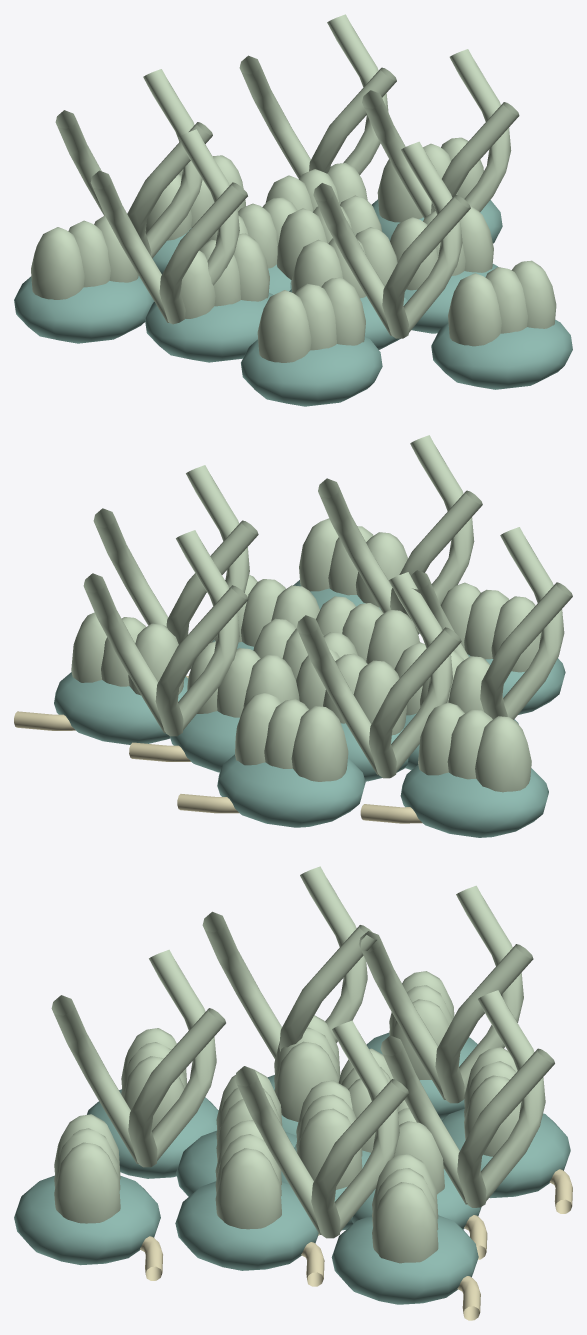
The model's file is bio_acid_mat_09_far.glb.
3 views of the same model, one above another, from view 1: azimuth 30°, elevation 25°; view 2: azimuth 150°, elevation 25°; view 3: azimuth 270°, elevation 25° (orthographic). The views are drawn at different scales.
Visible parts, largest first — view 1: Spiral filament.006, Spiral filament.012, Spiral filament, Spiral filament.009, Spiral filament.003, Reaction vesicle.021, Reaction vesicle.030, Microbial cushion.007, Microbial cushion.010, Microbial cushion.009, Reaction vesicle.027, Microbial cushion.004 (+11 smaller); view 2: Spiral filament.009, Spiral filament.003, Spiral filament.006, Spiral filament.012, Spiral filament, Reaction vesicle.027, Reaction vesicle.018, Microbial cushion.009, Microbial cushion.006, Microbial cushion.008, Reaction vesicle.030, Reaction vesicle.021 (+14 smaller); view 3: Spiral filament.006, Spiral filament, Spiral filament.009, Spiral filament.003, Spiral filament.012, Microbial cushion.008, Microbial cushion.010, Microbial cushion.005, Reaction vesicle.030, Reaction vesicle.024, Reaction vesicle.015, Reaction vesicle (+17 smaller).
Part boxes in pixels (left/top/right/bottom): Spiral filament.006: left=313, top=141, right=470, bottom=338; Spiral filament.012: left=90, top=129, right=247, bottom=324; Spiral filament: left=362, top=49, right=519, bottom=218; Spiral filament.009: left=239, top=14, right=396, bottom=178; Spiral filament.003: left=55, top=69, right=212, bottom=258; Reaction vesicle.021: left=257, top=277, right=365, bottom=362; Reaction vesicle.030: left=448, top=260, right=556, bottom=346; Microbial cushion.007: left=241, top=336, right=382, bottom=406; Microbial cushion.010: left=431, top=320, right=572, bottom=389; Microbial cushion.009: left=14, top=276, right=154, bottom=343; Reaction vesicle.027: left=31, top=215, right=138, bottom=299; Microbial cushion.004: left=145, top=293, right=273, bottom=362; Spiral filament.009: left=83, top=530, right=248, bottom=736; Spiral filament.003: left=297, top=572, right=461, bottom=778; Spiral filament.006: left=318, top=435, right=482, bottom=634; Spiral filament.012: left=410, top=527, right=572, bottom=719; Spiral filament: left=93, top=465, right=258, bottom=669; Reaction vesicle.027: left=418, top=702, right=531, bottom=792; Reaction vesicle.018: left=235, top=692, right=348, bottom=781; Microbial cushion.009: left=400, top=765, right=548, bottom=837; Microbial cushion.006: left=217, top=754, right=365, bottom=827; Microbial cushion.008: left=54, top=672, right=188, bottom=744; Reaction vesicle.030: left=299, top=518, right=407, bottom=607; Reaction vesicle.021: left=440, top=582, right=541, bottom=672; Spiral filament.006: left=51, top=949, right=225, bottom=1167; Spiral filament: left=234, top=1020, right=409, bottom=1238; Spiral filament.009: left=380, top=990, right=554, bottom=1207; Spiral filament.003: left=359, top=885, right=533, bottom=1103; Spiral filament.012: left=202, top=866, right=376, bottom=1059; Microbial cushion.008: left=331, top=1215, right=478, bottom=1304; Microbial cushion.010: left=14, top=1175, right=160, bottom=1265; Microbial cushion.005: left=175, top=1181, right=318, bottom=1270; Reaction vesicle.030: left=54, top=1114, right=120, bottom=1223; Reaction vesicle.024: left=372, top=1154, right=438, bottom=1263; Reaction vesicle.015: left=215, top=1120, right=281, bottom=1229; Reaction vesicle: left=296, top=1080, right=362, bottom=1189.
Bounding box in the file's own units: 1.83 × 0.7408 × 1.67.
